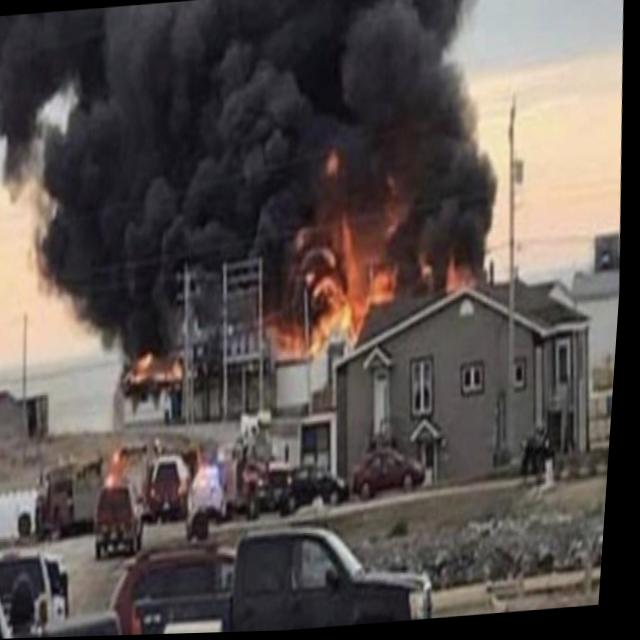fire: (262, 185, 415, 371), (127, 339, 195, 391), (440, 243, 483, 297), (326, 151, 347, 180), (421, 253, 439, 283)
